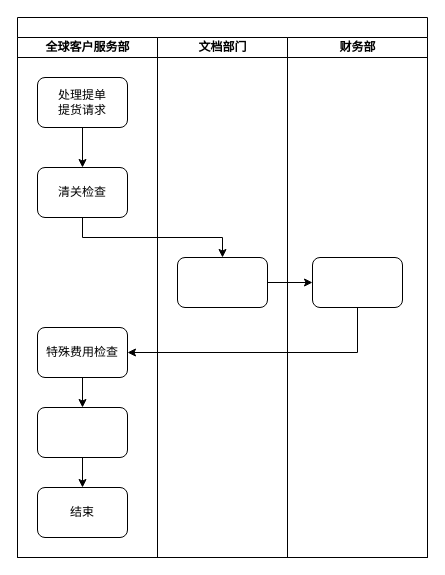
This 445x575 diagram has some shape labels left out. Each missing label, with the centre of its shape:
费用检查: (357,282)
进口文件检查: (222,282)
验单放货: (82,432)
